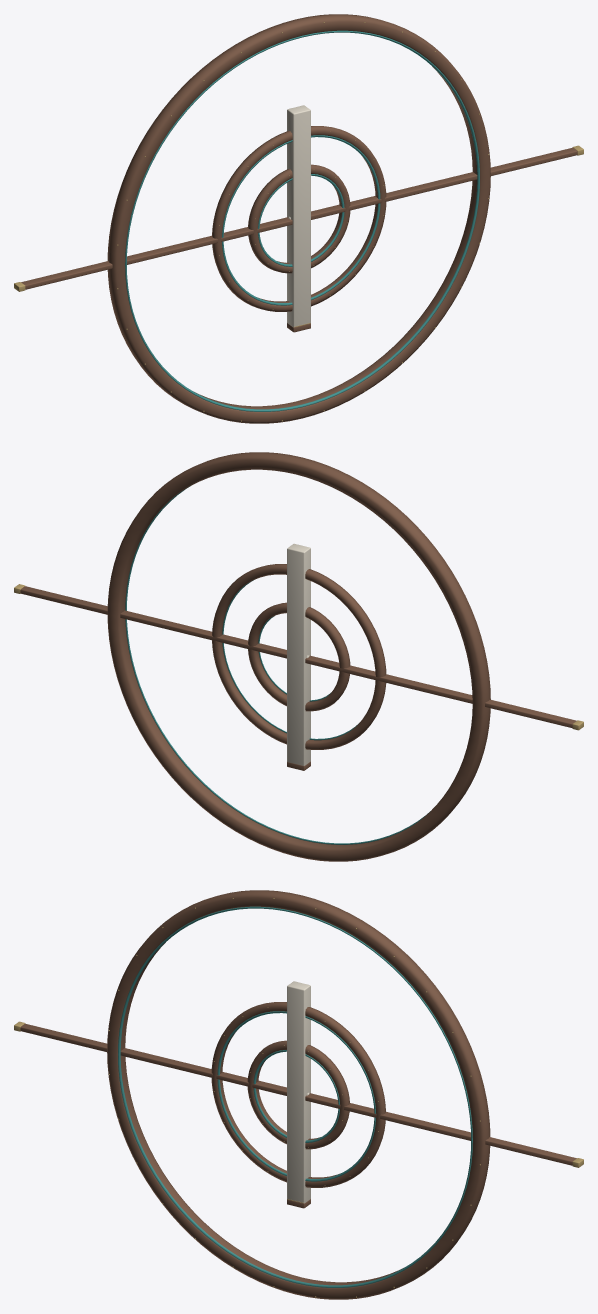
The model's file is home-room-details-v1.glb.
3 views of the same model, one above another, from view 1: azimuth 30°, elevation 25°; view 2: azimuth 150°, elevation 25°; view 3: azimuth 330°, elevation 25° (orthographic).
Parts seen in each view (by area): view 1: walnut-bevelled-structural-ring, soft-ivory-plaster-stile, walnut-bevelled-structural-ring.002, single-corner-bevelled-walnut-beam, narrow-teal-inner-lip, walnut-bevelled-structural-ring.001, narrow-teal-inner-lip.002, narrow-teal-inner-lip.001; view 2: walnut-bevelled-structural-ring, walnut-bevelled-structural-ring.002, soft-ivory-plaster-stile, single-corner-bevelled-walnut-beam, walnut-bevelled-structural-ring.001, narrow-teal-inner-lip; view 3: walnut-bevelled-structural-ring, soft-ivory-plaster-stile, walnut-bevelled-structural-ring.002, single-corner-bevelled-walnut-beam, narrow-teal-inner-lip, walnut-bevelled-structural-ring.001, narrow-teal-inner-lip.002, narrow-teal-inner-lip.001.
Part boxes in pixels (x1=…): walnut-bevelled-structural-ring: x1=107, y1=14, x2=490, y2=423; soft-ivory-plaster-stile: x1=287, y1=105, x2=310, y2=327; walnut-bevelled-structural-ring.002: x1=212, y1=126, x2=386, y2=311; single-corner-bevelled-walnut-beam: x1=21, y1=147, x2=577, y2=289; narrow-teal-inner-lip: x1=125, y1=30, x2=479, y2=411; walnut-bevelled-structural-ring.001: x1=248, y1=164, x2=350, y2=273; narrow-teal-inner-lip.002: x1=222, y1=135, x2=380, y2=305; narrow-teal-inner-lip.001: x1=258, y1=174, x2=344, y2=266; walnut-bevelled-structural-ring: x1=107, y1=452, x2=490, y2=861; walnut-bevelled-structural-ring.002: x1=212, y1=564, x2=386, y2=749; soft-ivory-plaster-stile: x1=287, y1=543, x2=310, y2=765; single-corner-bevelled-walnut-beam: x1=20, y1=586, x2=576, y2=728; walnut-bevelled-structural-ring.001: x1=248, y1=602, x2=350, y2=711; narrow-teal-inner-lip: x1=125, y1=486, x2=430, y2=844; walnut-bevelled-structural-ring: x1=107, y1=890, x2=490, y2=1299; soft-ivory-plaster-stile: x1=287, y1=981, x2=310, y2=1203; walnut-bevelled-structural-ring.002: x1=211, y1=1002, x2=385, y2=1187; single-corner-bevelled-walnut-beam: x1=20, y1=1023, x2=576, y2=1165; narrow-teal-inner-lip: x1=118, y1=906, x2=472, y2=1287; walnut-bevelled-structural-ring.001: x1=247, y1=1040, x2=349, y2=1149; narrow-teal-inner-lip.002: x1=217, y1=1011, x2=375, y2=1181; narrow-teal-inner-lip.001: x1=253, y1=1050, x2=339, y2=1142.
Bounding box in the file's own units: 32.98 × 22.12 × 0.8592.
